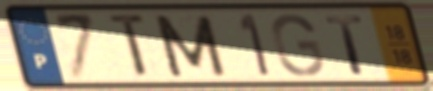1: (236, 12, 274, 79)
7: (53, 10, 98, 83)
G: (268, 12, 326, 79)
M: (150, 13, 230, 79)
T: (107, 11, 152, 81), (322, 13, 369, 77)
